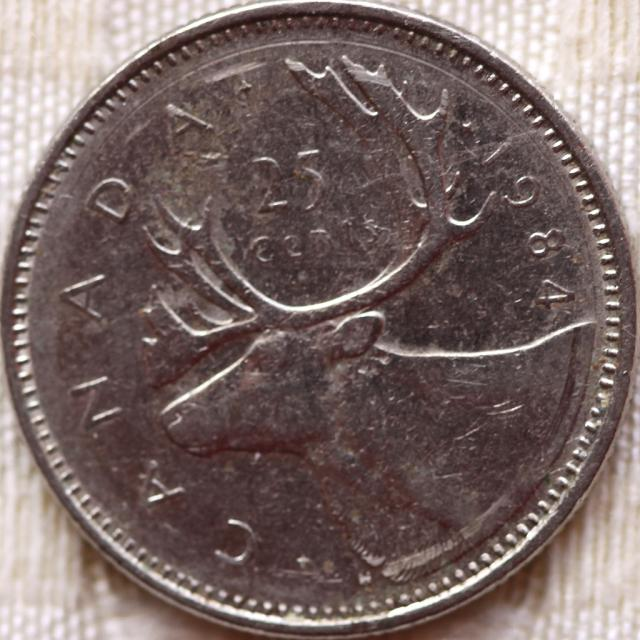Coin: (0, 1, 635, 636)
